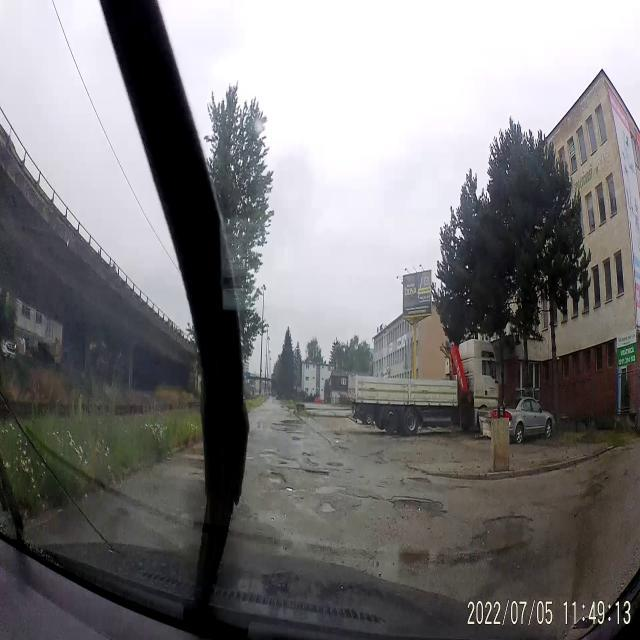Manhole: (326, 460, 344, 468)
Pothole: (470, 508, 534, 560), (384, 489, 449, 518), (347, 493, 381, 511), (264, 468, 290, 488), (362, 448, 390, 466), (405, 471, 433, 487), (302, 468, 330, 480), (316, 498, 336, 514), (300, 449, 314, 459), (334, 446, 351, 454), (343, 466, 356, 476), (188, 468, 201, 478), (456, 482, 472, 490), (292, 434, 302, 444), (357, 476, 367, 482), (279, 460, 289, 466)
